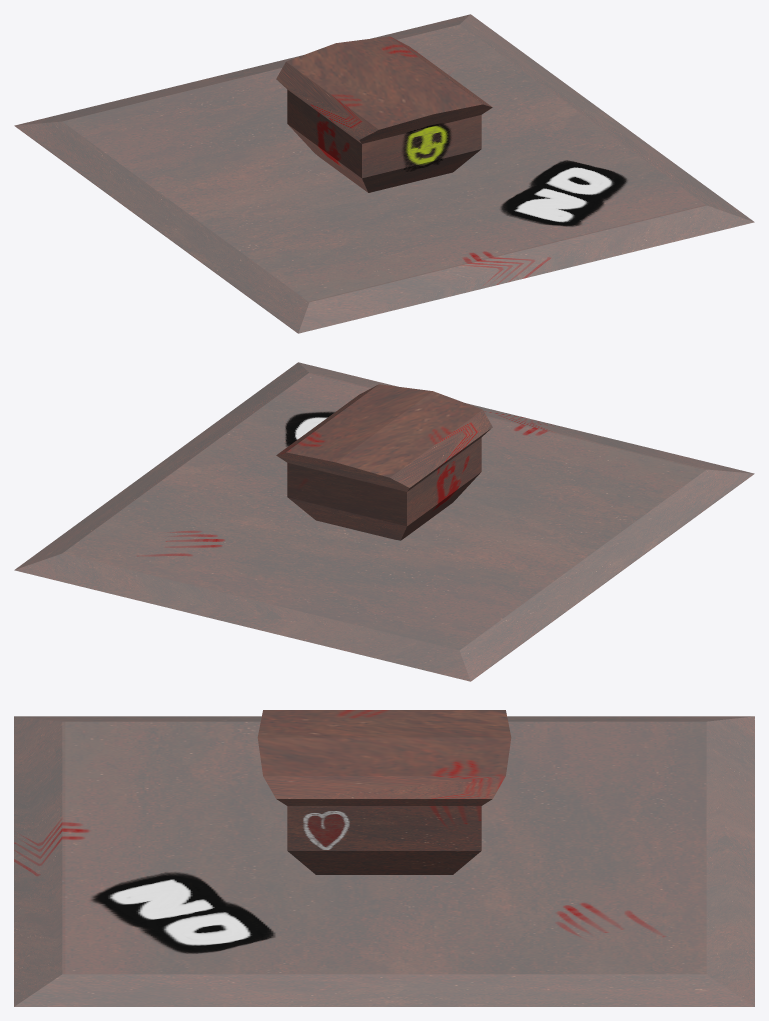
The model's file is Capo_2 (1).glb.
3 views of the same model, one above another, from view 1: azimuth 30°, elevation 25°; view 2: azimuth 150°, elevation 25°; view 3: azimuth 270°, elevation 25° (orthographic). The views are drawn at different scales.
Parts seen in each view (by area): view 1: Plane.001; view 2: Plane.001; view 3: Plane.001.
Boxes of the visible parts, box(x1,y1,x2,y2) form: Plane.001: box(14, 14, 754, 333); Plane.001: box(14, 362, 754, 681); Plane.001: box(14, 710, 754, 1006).
Bounding box in the file's own units: 2.92 × 0.5825 × 3.15.
Materials: 1 (1 with a texture image).
